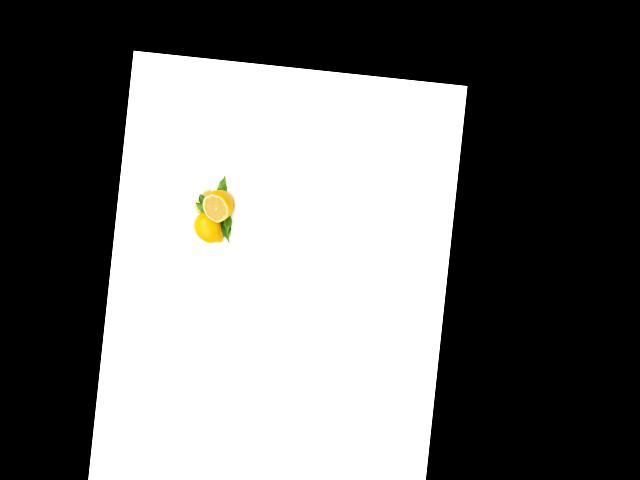lemon: (200, 186, 238, 224)
